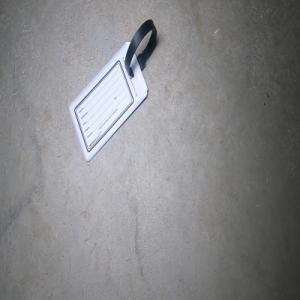LuggageTag: (67, 17, 158, 163)
